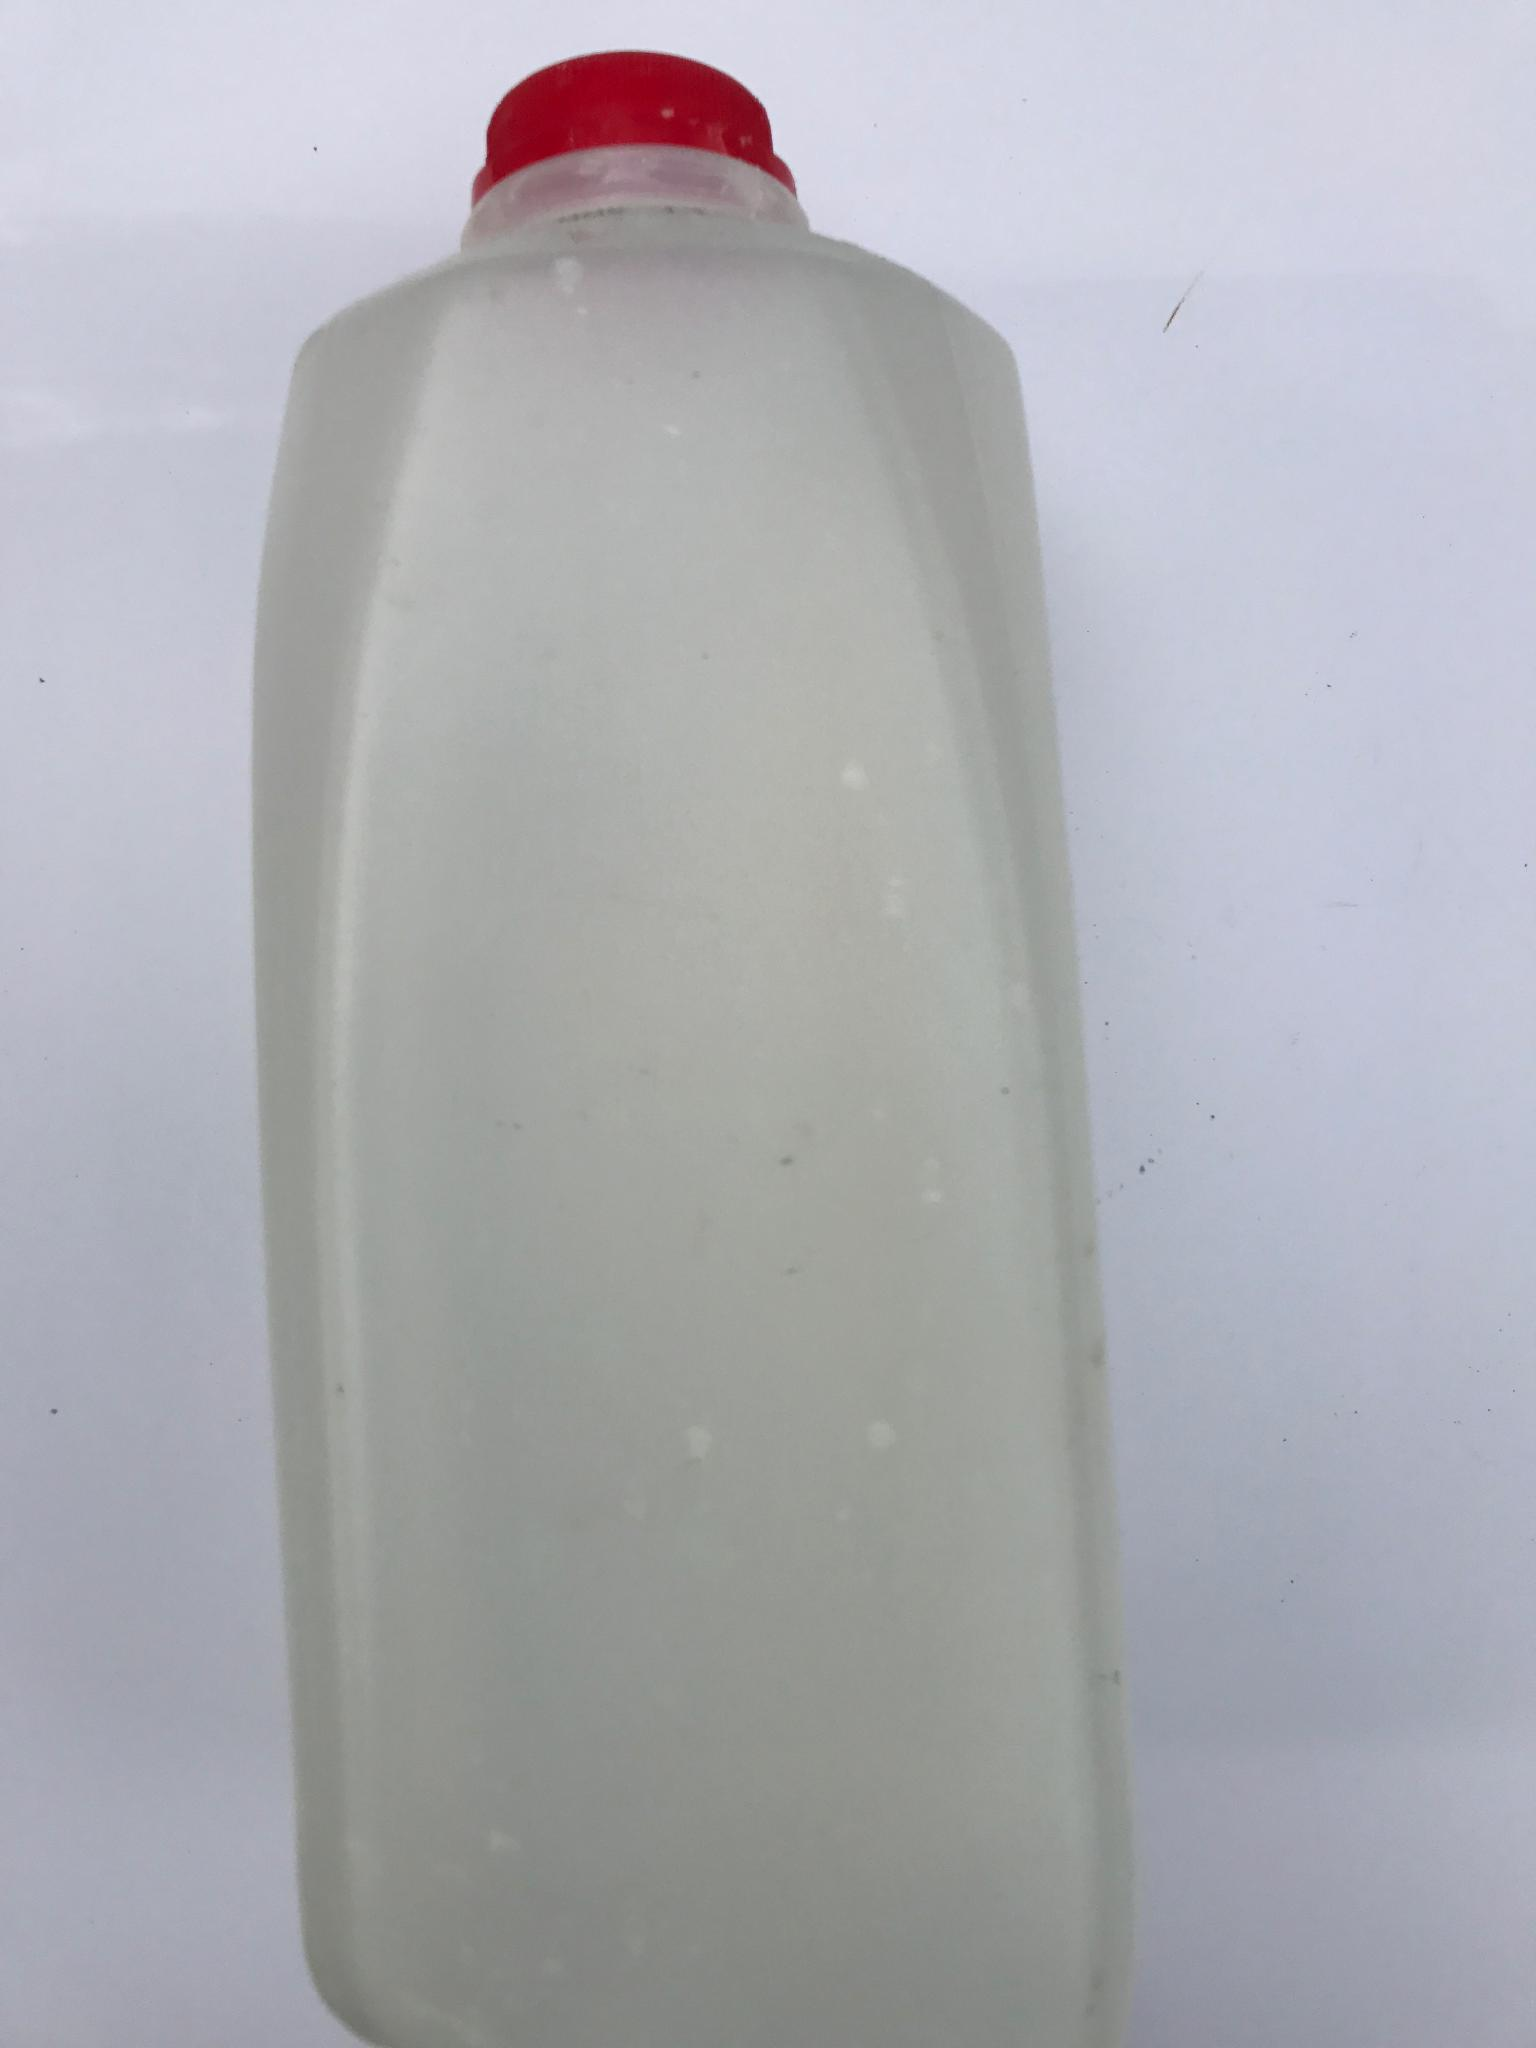Plastic: (257, 40, 1155, 2048)
